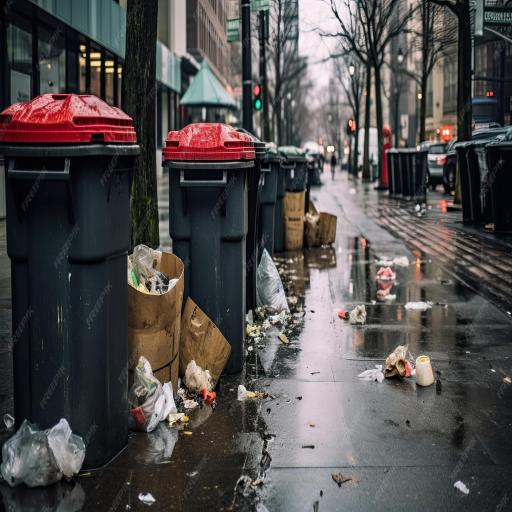Basura_fuera: (0, 94, 337, 487), (334, 304, 369, 326)
